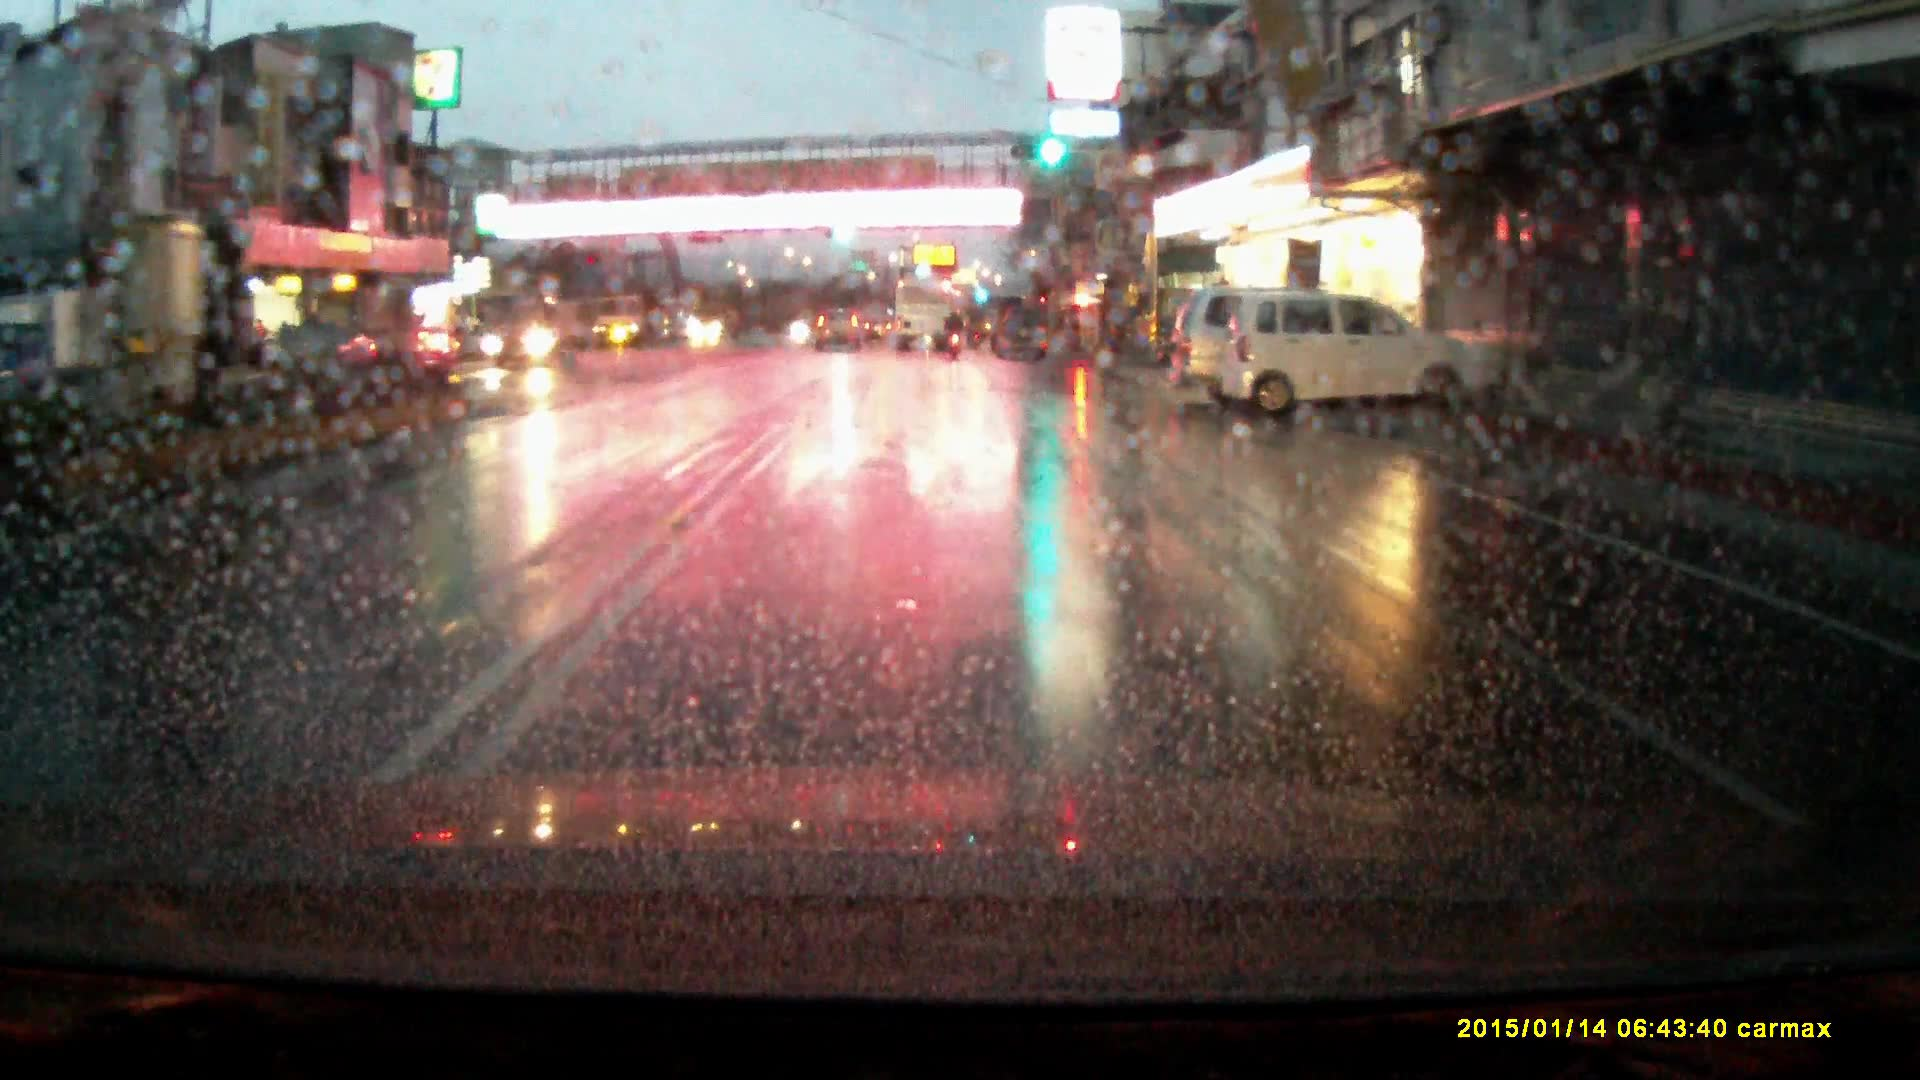rider: (944, 311, 965, 364)
vehicle: (1225, 293, 1499, 426), (1168, 284, 1331, 408), (481, 296, 581, 369), (282, 321, 383, 375), (897, 277, 950, 346), (594, 294, 660, 347), (992, 305, 1052, 360), (396, 324, 467, 367), (687, 298, 743, 342), (816, 304, 865, 350), (1106, 306, 1150, 354)
